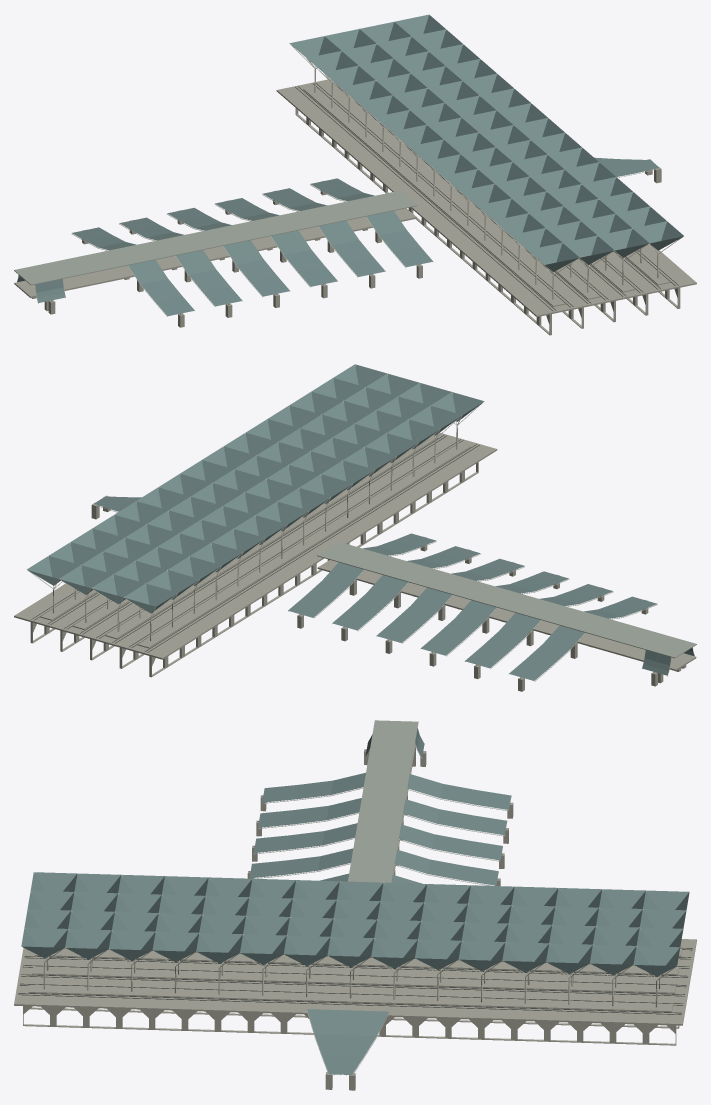
The model's file is gare-oriente-far.glb.
3 views of the same model, one above another, from view 1: azimuth 30°, elevation 25°; view 2: azimuth 150°, elevation 25°; view 3: azimuth 270°, elevation 25° (orthographic). The views are drawn at different scales.
Visible parts, largest first — view 1: gare-oriente-0-glass, gare-oriente-0-concrete, gare-oriente-0-roof, gare-oriente-0-track, gare-oriente-0-steel, gare-oriente-0-column; view 2: gare-oriente-0-glass, gare-oriente-0-concrete, gare-oriente-0-roof, gare-oriente-0-track, gare-oriente-0-steel, gare-oriente-0-column; view 3: gare-oriente-0-glass, gare-oriente-0-concrete, gare-oriente-0-roof, gare-oriente-0-track, gare-oriente-0-steel, gare-oriente-0-column.
Part boxes in pixels (x1,y1,x2,y2): gare-oriente-0-glass: [17, 14, 683, 316]; gare-oriente-0-concrete: [14, 79, 696, 335]; gare-oriente-0-roof: [14, 190, 417, 285]; gare-oriente-0-track: [295, 83, 678, 310]; gare-oriente-0-steel: [17, 14, 683, 316]; gare-oriente-0-column: [314, 69, 658, 299]; gare-oriente-0-glass: [27, 364, 694, 680]; gare-oriente-0-concrete: [14, 432, 696, 691]; gare-oriente-0-roof: [317, 542, 696, 658]; gare-oriente-0-track: [31, 435, 479, 652]; gare-oriente-0-steel: [27, 364, 694, 681]; gare-oriente-0-column: [52, 425, 457, 641]; gare-oriente-0-glass: [21, 728, 689, 1074]; gare-oriente-0-concrete: [14, 744, 696, 1090]; gare-oriente-0-roof: [348, 720, 418, 882]; gare-oriente-0-track: [18, 947, 692, 1014]; gare-oriente-0-steel: [21, 731, 689, 1075]; gare-oriente-0-column: [43, 957, 660, 1007].
Bounding box in the file's own units: 308 × 35.11 × 265.
